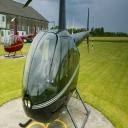helicopter: (23, 1, 95, 128), (5, 18, 39, 60)
